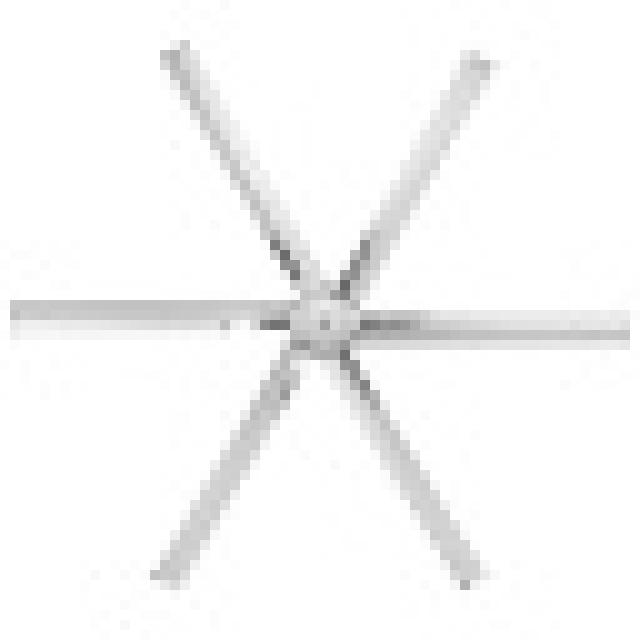Bulb: (19, 49, 640, 612)
